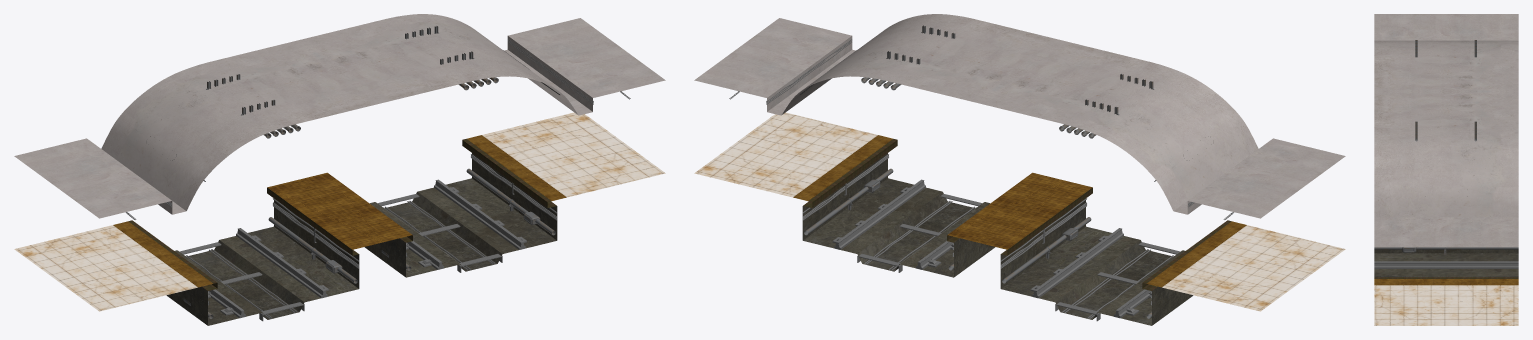
The model's file is Ped_Tunnel_Middle_01_02.fbx.
3 renders of one model, left to right at view 1: azimuth 30°, elevation 25°; view 2: azimuth 150°, elevation 25°; view 3: azimuth 270°, elevation 25°, orthographic. The views are drawn at different scales.
Parts seen in each view (by area): view 1: Ped_Tunnel_Middle_01_02; view 2: Ped_Tunnel_Middle_01_02; view 3: Ped_Tunnel_Middle_01_02.
Boxes of the visible parts, <box> form: Ped_Tunnel_Middle_01_02: <box>14,14,665,325</box>; Ped_Tunnel_Middle_01_02: <box>694,14,1345,325</box>; Ped_Tunnel_Middle_01_02: <box>1374,14,1518,325</box>.
Bounding box in the file's own units: 1916 × 627 × 501.
